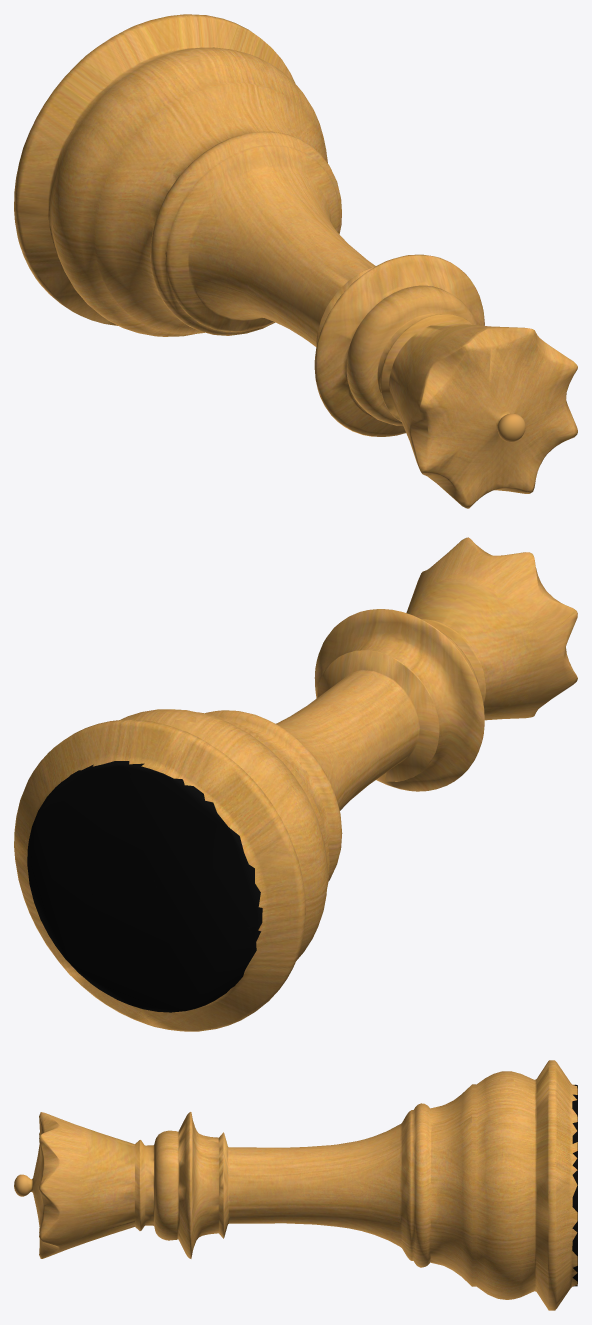
File: Regina_Bianca_3k.obj
3 renders of one model, top to bottom at view 1: azimuth 30°, elevation 25°; view 2: azimuth 150°, elevation 25°; view 3: azimuth 270°, elevation 25°, orthographic. The views are drawn at different scales.
Parts seen in each view (by area): view 1: 12927_Wooden_Chess_Queen_side_A_v1_l3; view 2: 12927_Wooden_Chess_Queen_side_A_v1_l3; view 3: 12927_Wooden_Chess_Queen_side_A_v1_l3.
Boxes of the visible parts, x1,y1,x2,y2 form: 12927_Wooden_Chess_Queen_side_A_v1_l3: [14, 14, 577, 508]; 12927_Wooden_Chess_Queen_side_A_v1_l3: [14, 537, 577, 1031]; 12927_Wooden_Chess_Queen_side_A_v1_l3: [14, 1060, 577, 1310].
Size of the model in its own units: 4.51 by 4.51 by 10.16.
Materials: 1 (1 with a texture image).
